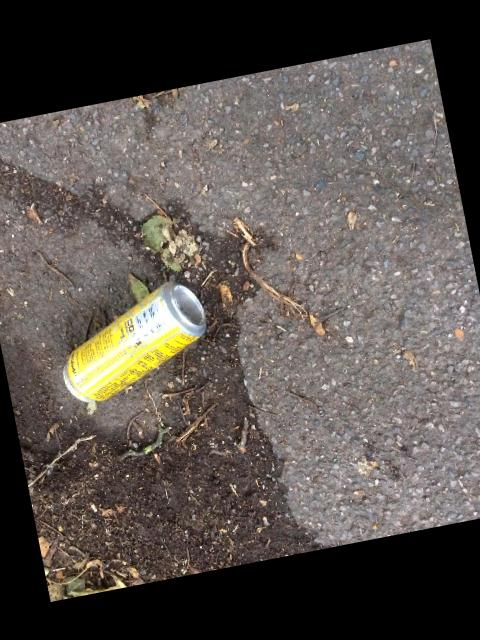metal: (62, 282, 204, 402)
